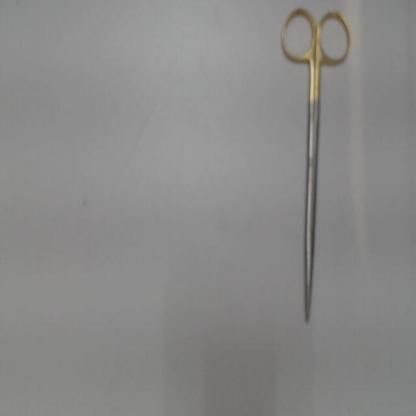7 Metzenbaum Scissors: (279, 7, 355, 321)
